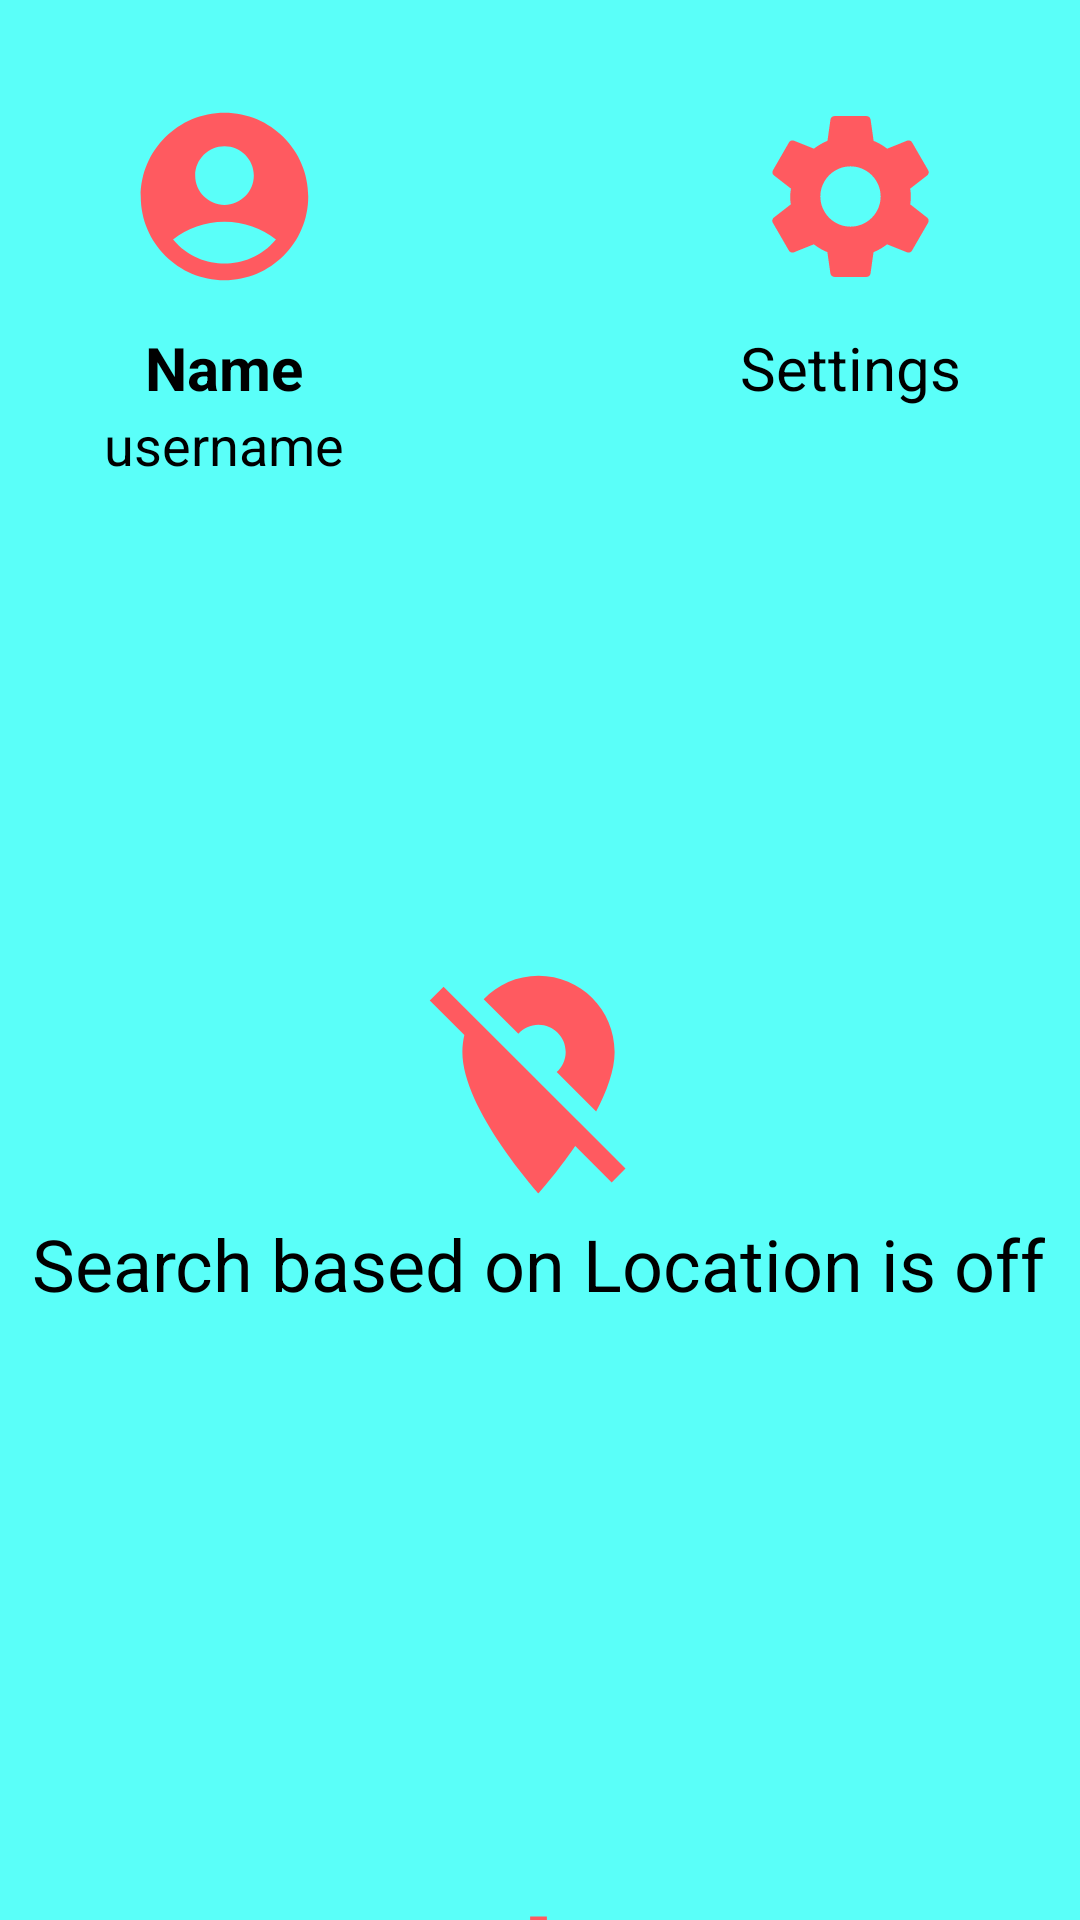

Where icons sit on this 1080 x 1920 app screen, as box(x1, y1, x2, y2):
account settings: box(140, 112, 309, 281)
